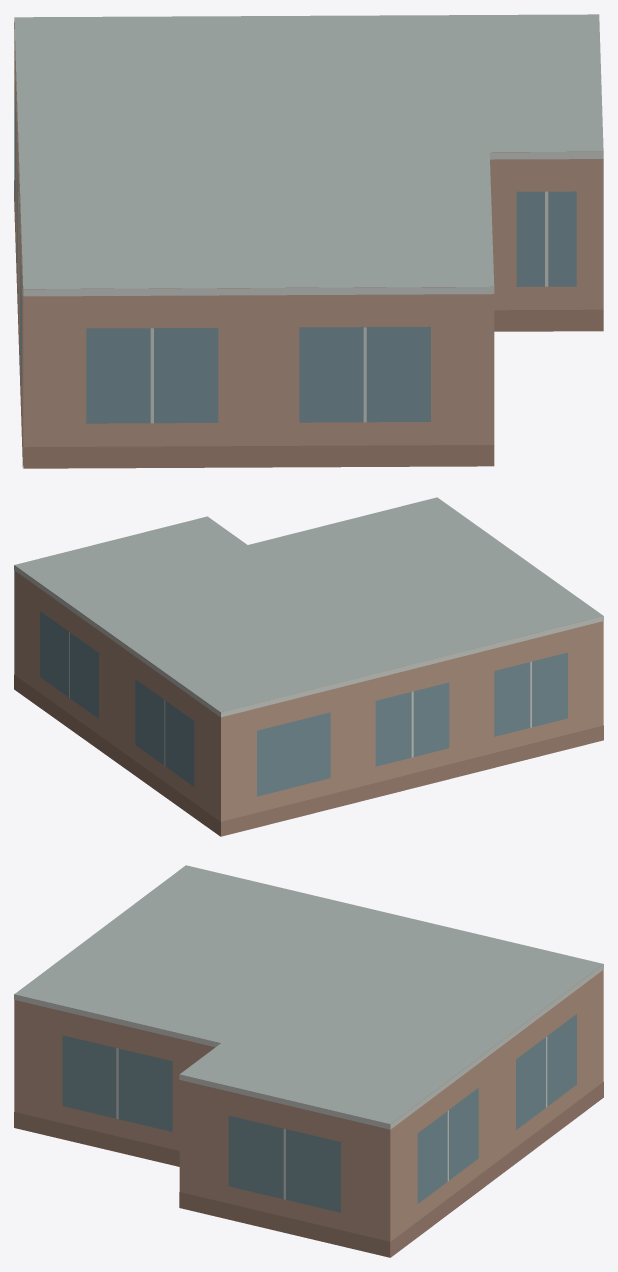
The model's file is survey-upis-32828088.glb.
3 views of the same model, one above another, from view 1: azimuth 30°, elevation 25°; view 2: azimuth 150°, elevation 25°; view 3: azimuth 270°, elevation 25° (orthographic). The views are drawn at different scales.
Visible parts, largest first — view 1: survey-upis-32828088.tmp; view 2: survey-upis-32828088.tmp; view 3: survey-upis-32828088.tmp.
Part boxes in pixels (bbox=[...]): survey-upis-32828088.tmp: bbox=[14, 14, 603, 468]; survey-upis-32828088.tmp: bbox=[14, 497, 603, 836]; survey-upis-32828088.tmp: bbox=[14, 865, 603, 1257].
Bounding box in the file's own units: 12.7 × 3.05 × 12.22.
